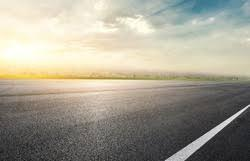road: (0, 79, 249, 159)
